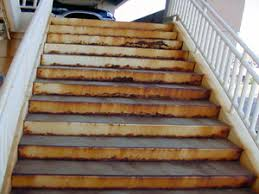rust: (19, 151, 245, 168), (26, 129, 230, 144), (30, 108, 220, 122), (37, 88, 207, 102), (38, 74, 198, 86), (41, 61, 193, 73), (120, 39, 171, 49)
